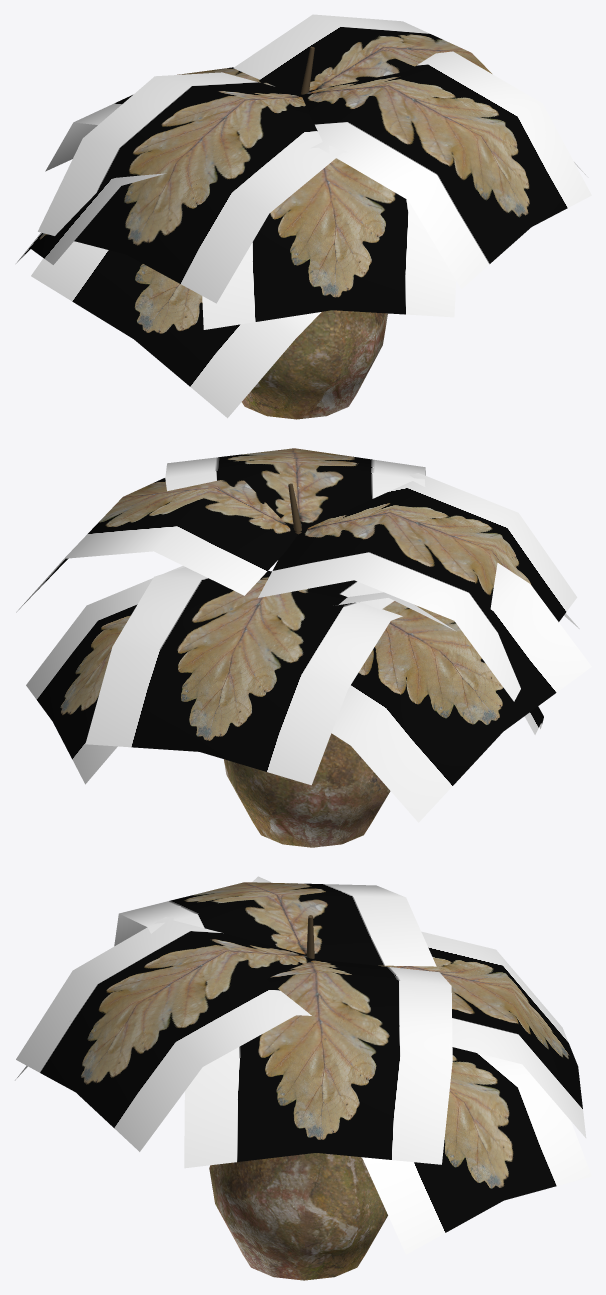
The model's file is potted plant 03.FBX.
The picture shows the model from 3 angles, top to bottom: view 1: azimuth 30°, elevation 25°; view 2: azimuth 150°, elevation 25°; view 3: azimuth 270°, elevation 25°; orthographic projection. The views are drawn at different scales.
Parts seen in each view (by area): view 1: potted plant 03; view 2: potted plant 03; view 3: potted plant 03.
Part boxes in pixels (left/top/right/bottom): potted plant 03: left=16, top=14, right=591, bottom=419; potted plant 03: left=16, top=448, right=591, bottom=847; potted plant 03: left=15, top=876, right=591, bottom=1280.
Bounding box in the file's own units: 96 × 62.03 × 93.37.
Materials: 3 (2 with a texture image).
